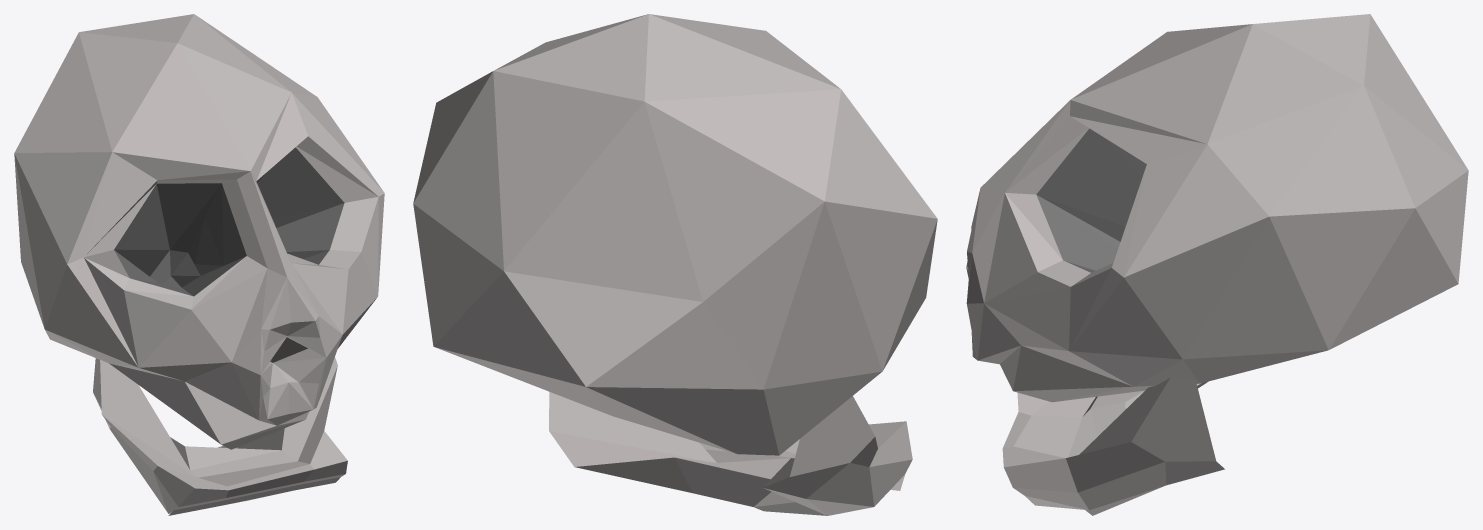
Rendered from skull_v1_vf.FBX.
The picture shows the model from 3 angles, left to right: view 1: azimuth 30°, elevation 25°; view 2: azimuth 150°, elevation 25°; view 3: azimuth 270°, elevation 25°; orthographic projection. The views are drawn at different scales.
Visible parts, largest first — view 1: GeoSphere001, Box036; view 2: GeoSphere001, Box036; view 3: GeoSphere001, Box036.
Boxes of the visible parts, x1,y1,x2,y2 form: GeoSphere001: (14,14,384,449); Box036: (93,357,347,515); GeoSphere001: (413,14,937,455); Box036: (549,392,912,515); GeoSphere001: (966,14,1468,402); Box036: (1002,377,1224,515).
Bounding box in the file's own units: 39 × 48.27 × 47.24.
Materials: 1 (1 with a texture image).
